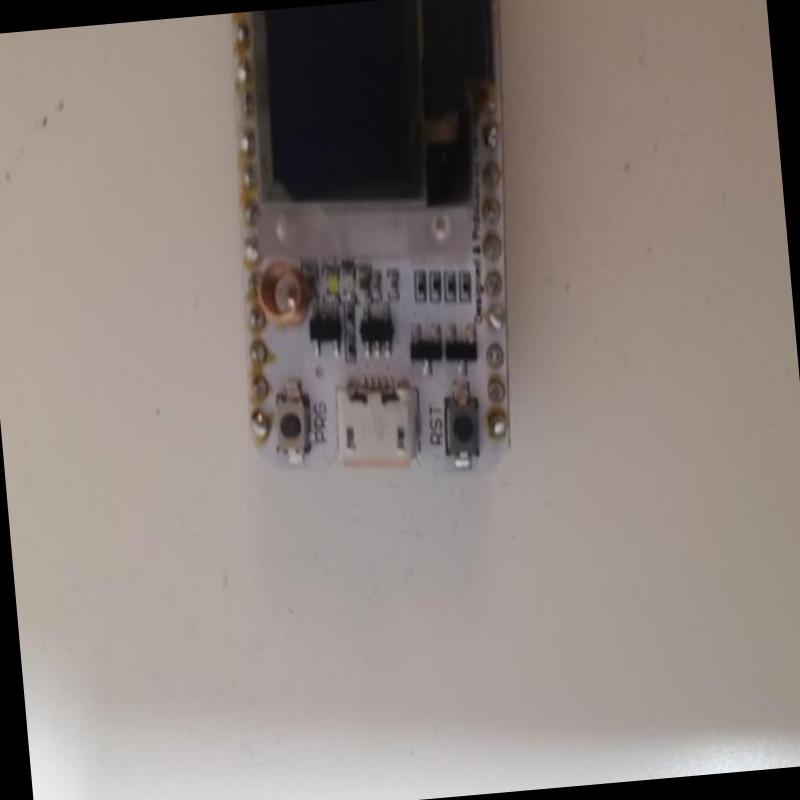Heltec_ESP32_Lora: (207, 1, 551, 499)
